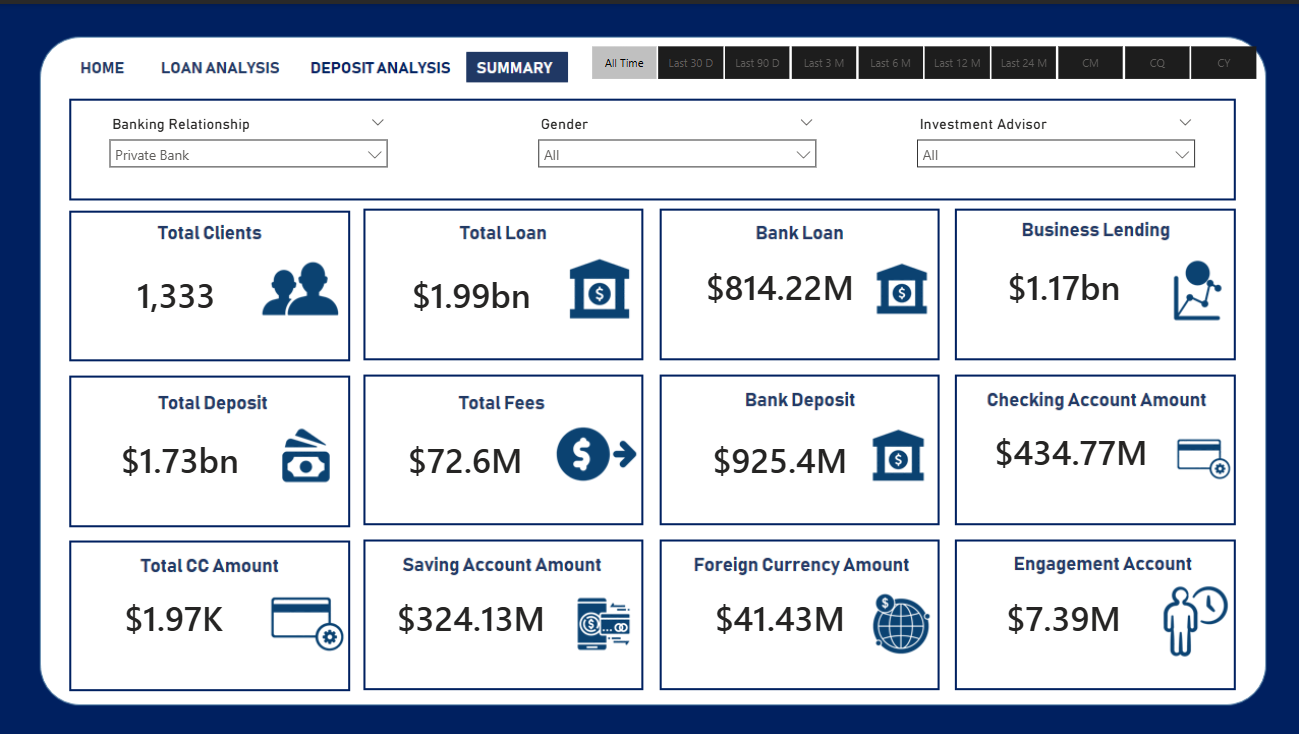

This screenshot's page, from the dashboard's own definition file:
{"tool":"powerbi","page":{"name":"Summary","canvas":[1280,720],"ordinal":3},"visuals":[{"type":"card","fields":{"Values":["DAX Measures.Engagment Length"]},"box":[946.3,546.4,198.2,114.9],"z":0},{"type":"card","fields":{"Values":["DAX Measures.Foreign Currency Account"]},"box":[667.2,546.4,198.2,114.9],"z":1000},{"type":"card","fields":{"Values":["DAX Measures.Bank Deposit"]},"box":[667.2,390.5,198.2,114.9],"z":2000},{"type":"card","fields":{"Values":["DAX Measures.Checking Accounts"]},"box":[953.4,382.3,198.2,114.9],"z":3000},{"type":"card","fields":{"Values":["DAX Measures.Bank Loan"]},"box":[667.2,220.5,198.2,114.9],"z":4000},{"type":"card","fields":{"Values":["DAX Measures.Business Lending"]},"box":[953.4,220.5,184.1,114.9],"z":5000},{"type":"card","fields":{"Values":["DAX Measures.Savings Account"]},"box":[360,546.4,207.6,114.9],"z":6000},{"type":"card","fields":{"Values":["DAX Measures.Total CC Amount"]},"box":[72.7,546.4,198.2,114.9],"z":7000},{"type":"card","fields":{"Values":["DAX Measures.Total Deposit"]},"box":[78.6,390.5,198.2,114.9],"z":8000},{"type":"card","fields":{"Values":["DAX Measures.Total Fees"]},"box":[365.9,390.5,184.1,114.9],"z":9000},{"type":"card","fields":{"Values":["DAX Measures.Total Clients"]},"box":[75,228.7,198.2,114.9],"z":10000},{"type":"card","fields":{"Values":["DAX Measures.Total Loan"]},"box":[365.9,228.7,195.8,114.9],"z":11000},{"type":"slicer","fields":{"Values":["Banking Relationship.Banking Relationship"]},"box":[98.5,104.3,292.9,75.7],"z":12000},{"type":"slicer","fields":{"Values":["Gender.Gender"]},"box":[518.9,104.3,292.9,75.7],"z":13000},{"type":"slicer","fields":{"Values":["Investment Advisor.Investment Advisor"]},"box":[891.3,104.3,292.9,75.7],"z":14000},{"type":"slicer","fields":{"Values":["Period.Name"]},"box":[555.2,34.6,702.1,46.6],"z":15000},{"type":"actionButton","box":[72.8,44.2,58.5,31],"z":16000},{"type":"actionButton","box":[306.9,44.7,119.4,31],"z":17000},{"type":"actionButton","box":[297.9,44.6,147.8,30.5],"z":18000},{"type":"actionButton","box":[157.1,44.6,125.5,30.5],"z":19000}]}

Visuals, with their boxes in screenshot pixels (x1, y1, x2, y2), scaled from the page's 1280x720 canvas onto the 1299x734 screenshot:
card - DAX Measures.Engagment Length: 960/557/1161/674
card - DAX Measures.Foreign Currency Account: 677/557/878/674
card - DAX Measures.Bank Deposit: 677/398/878/515
card - DAX Measures.Checking Accounts: 968/390/1169/507
card - DAX Measures.Bank Loan: 677/225/878/342
card - DAX Measures.Business Lending: 968/225/1154/342
card - DAX Measures.Savings Account: 365/557/576/674
card - DAX Measures.Total CC Amount: 74/557/275/674
card - DAX Measures.Total Deposit: 80/398/281/515
card - DAX Measures.Total Fees: 371/398/558/515
card - DAX Measures.Total Clients: 76/233/277/350
card - DAX Measures.Total Loan: 371/233/570/350
slicer - Banking Relationship.Banking Relationship: 100/106/397/184
slicer - Gender.Gender: 527/106/824/184
slicer - Investment Advisor.Investment Advisor: 905/106/1202/184
slicer - Period.Name: 563/35/1276/83
actionButton: 74/45/133/77
actionButton: 311/46/433/77
actionButton: 302/45/452/77
actionButton: 159/45/287/77
